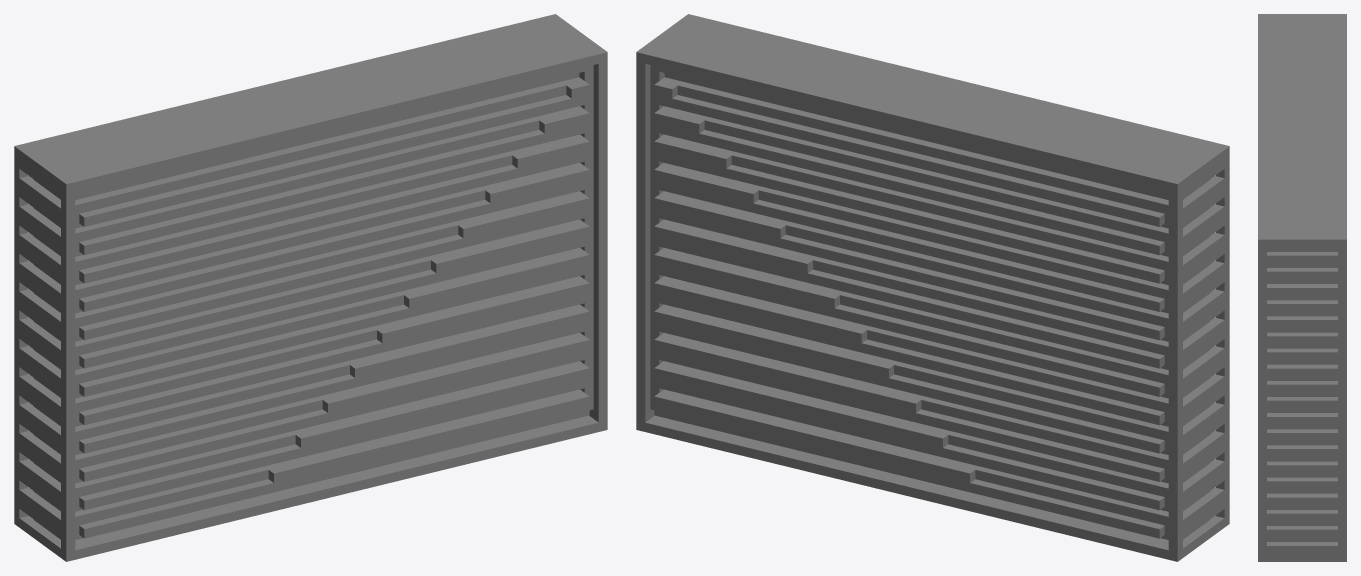
File: Command Wall 3.obj
3 views of the same model, side by side, from view 1: azimuth 30°, elevation 25°; view 2: azimuth 150°, elevation 25°; view 3: azimuth 270°, elevation 25° (orthographic). The views are drawn at different scales.
Size of the model in its own units: 60 by 40 by 10.
1 material, 1 textured.
